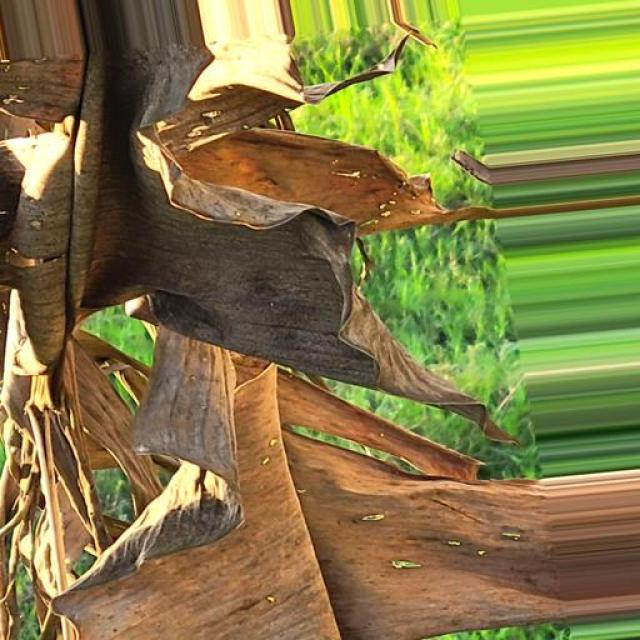Bract_mosaic_virus: (1, 0, 494, 640), (491, 457, 640, 640)
